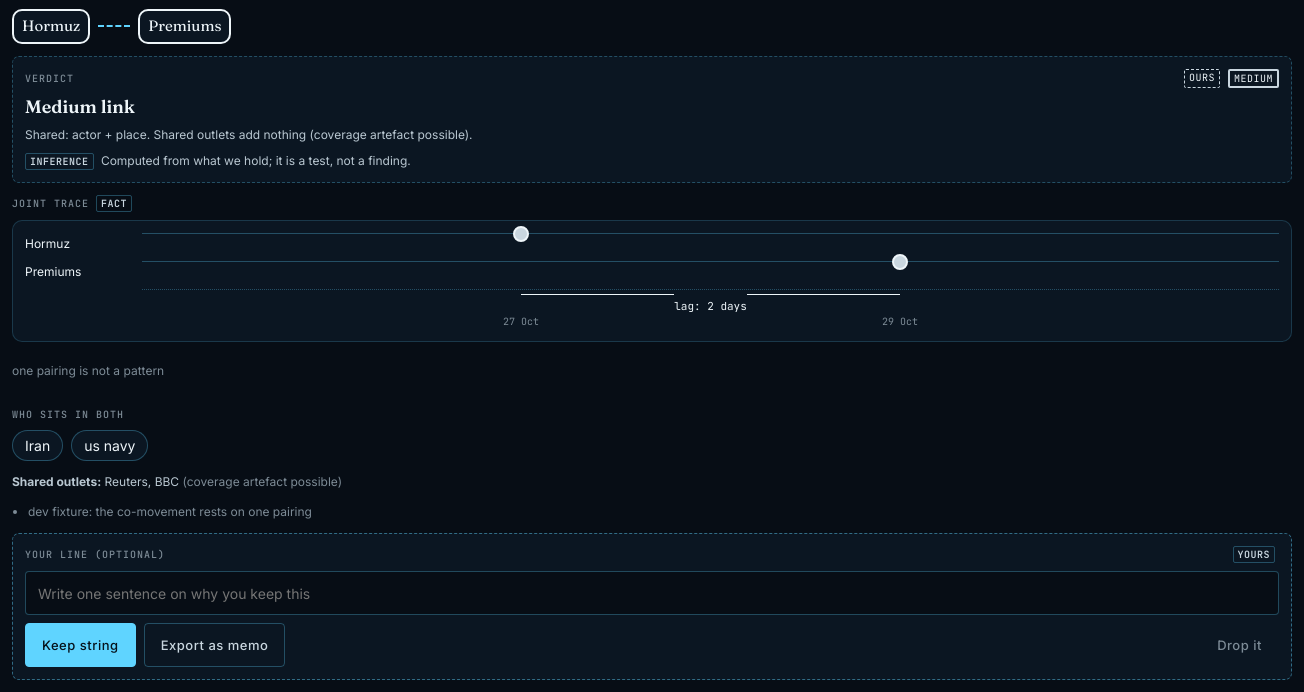
verdict card (artboard 3) › Export as memo copies the text
(page scrolled)
Click the button "Export as memo": [214, 645] box [144,623,285,667]
(page scrolled)
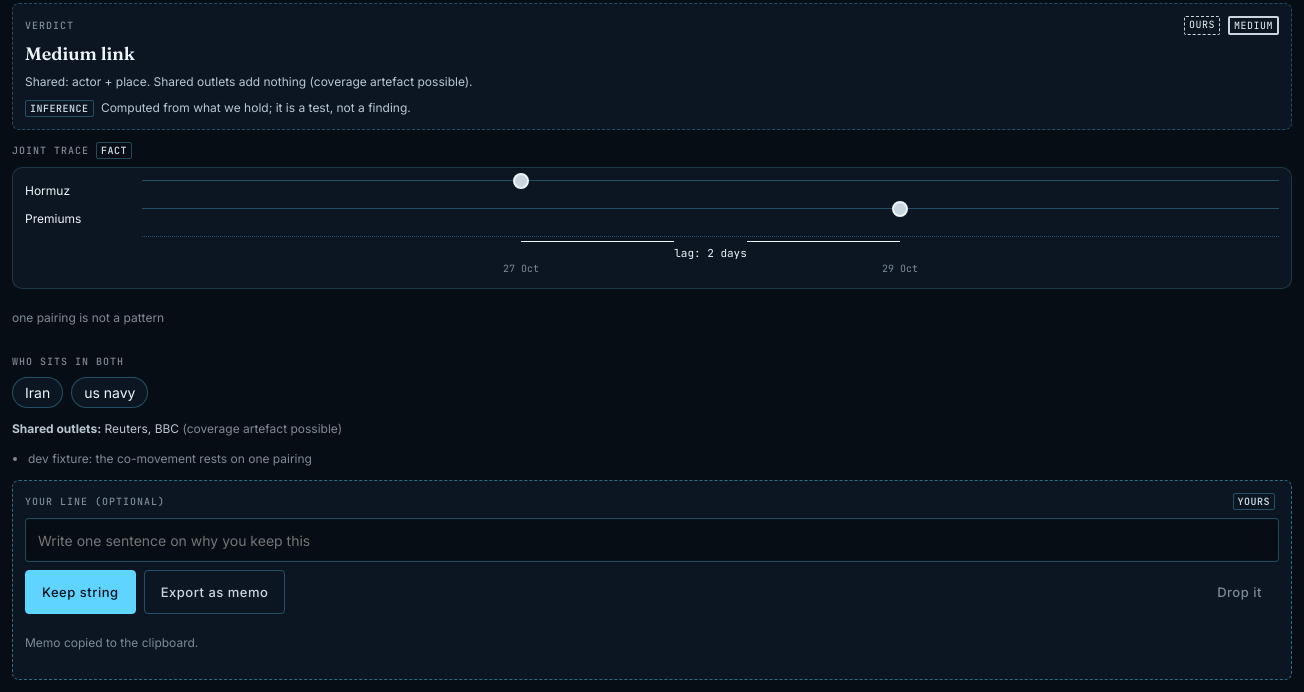
Check: the text "Memo copied to the clipboard." is shown, box [25,635,198,650]
